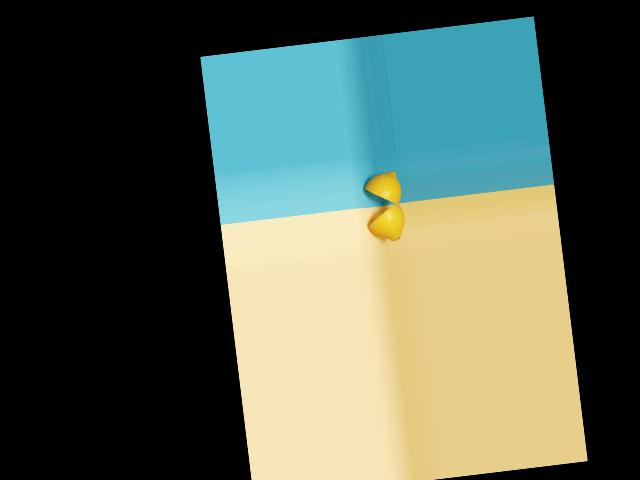lemon: (359, 165, 404, 209)
